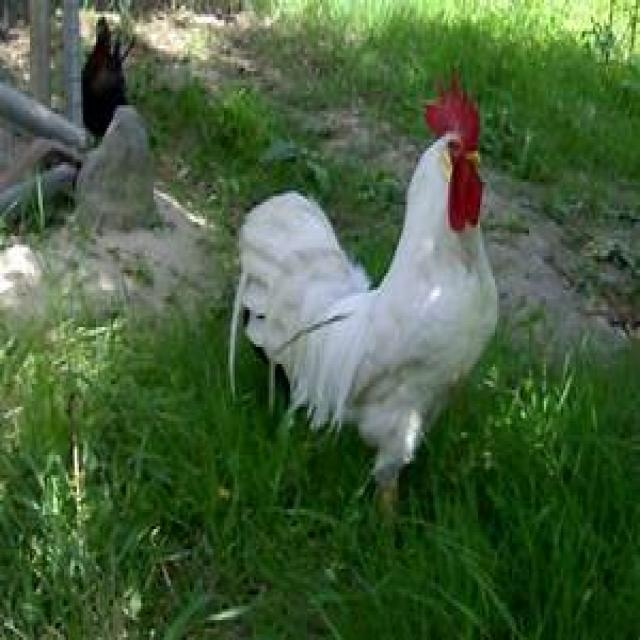hen: (235, 85, 501, 498)
